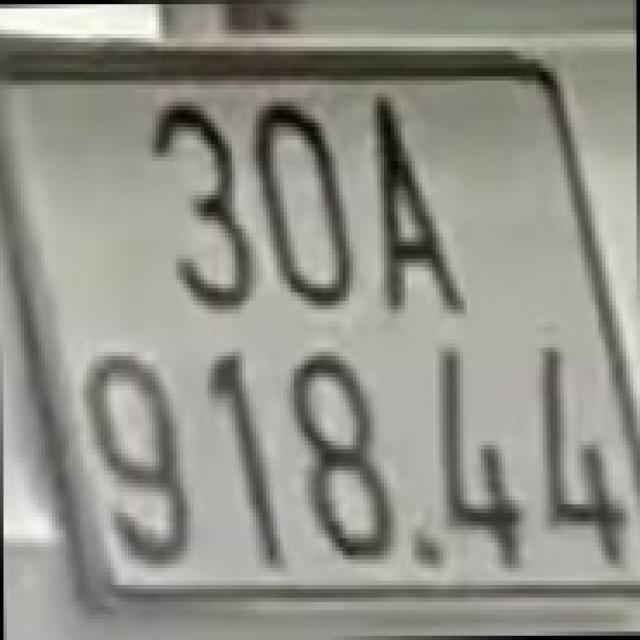0: (256, 93, 360, 314)
1: (204, 347, 287, 568)
3: (138, 93, 256, 314)
4: (533, 335, 633, 572), (429, 343, 526, 572)
8: (290, 343, 398, 564)
9: (80, 343, 194, 568)
A: (363, 85, 478, 322)
